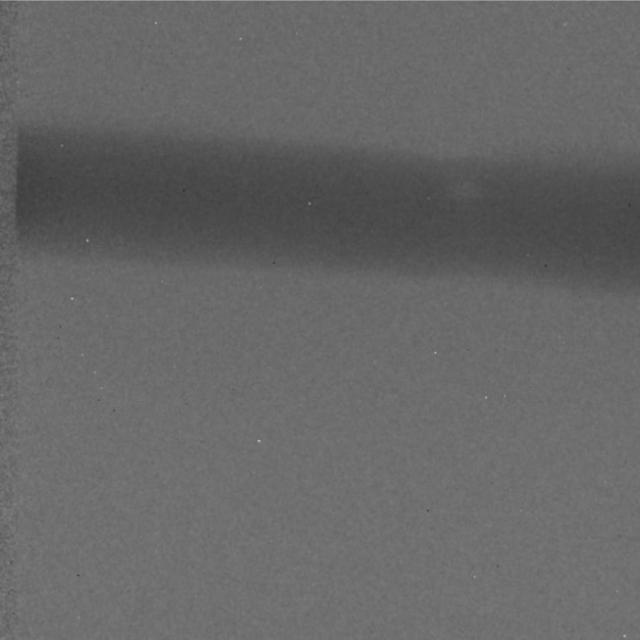slag inclusion: (441, 176, 483, 208)
